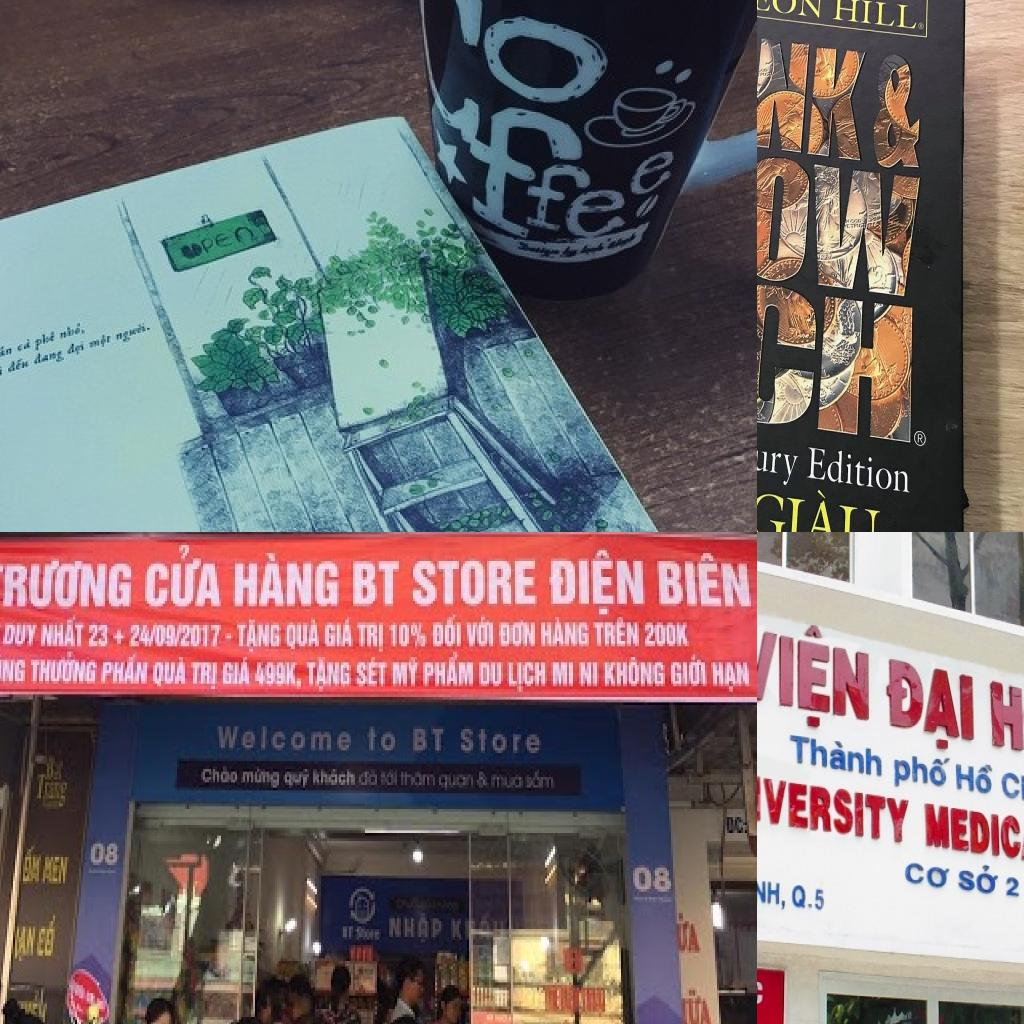text: (411, 0, 619, 182), (470, 92, 693, 246), (757, 258, 916, 444), (757, 134, 923, 300), (757, 13, 871, 167), (757, 607, 875, 736), (757, 765, 911, 845), (880, 643, 978, 756), (409, 553, 543, 614), (0, 558, 137, 616), (225, 545, 343, 612), (545, 540, 647, 617), (922, 796, 1024, 867), (139, 540, 231, 617), (655, 545, 755, 614), (757, 482, 885, 532), (805, 444, 911, 498), (215, 721, 355, 758), (787, 729, 887, 780), (983, 665, 1024, 780), (176, 221, 261, 267), (347, 556, 405, 614), (29, 649, 101, 692), (829, 0, 919, 34), (457, 724, 547, 758), (127, 622, 227, 652), (890, 745, 952, 793), (757, 427, 803, 487), (601, 654, 669, 692), (421, 652, 477, 694), (303, 654, 355, 697), (387, 910, 445, 948), (537, 614, 593, 652), (951, 755, 997, 801), (99, 652, 151, 692), (591, 614, 645, 652), (253, 657, 307, 694), (39, 612, 87, 652), (233, 617, 283, 654), (709, 657, 755, 697), (629, 865, 675, 905), (675, 908, 707, 964), (643, 620, 695, 654), (149, 654, 191, 694), (669, 652, 711, 692), (957, 862, 1001, 900), (505, 660, 549, 697), (83, 836, 123, 876), (33, 908, 61, 964), (904, 858, 952, 890), (285, 614, 323, 654), (497, 617, 539, 652), (309, 764, 359, 793), (429, 612, 465, 652), (790, 881, 828, 918), (355, 654, 391, 692), (323, 614, 357, 654), (409, 724, 449, 758), (114, 318, 156, 350), (389, 620, 431, 652), (363, 721, 399, 758), (757, 872, 790, 912), (463, 614, 497, 652), (221, 654, 255, 692), (189, 657, 221, 697), (239, 764, 283, 793), (19, 841, 45, 889), (41, 852, 71, 892), (999, 764, 1024, 812), (355, 620, 387, 657), (523, 766, 559, 798), (391, 654, 421, 692), (199, 761, 241, 788), (1, 622, 41, 649), (399, 766, 437, 793), (0, 651, 29, 686), (435, 772, 477, 796), (489, 766, 525, 793), (477, 660, 507, 692), (15, 926, 39, 966), (281, 766, 315, 793), (32, 346, 67, 372), (56, 318, 88, 344), (85, 622, 111, 652), (577, 660, 601, 692), (377, 764, 403, 793), (88, 328, 114, 355), (551, 660, 575, 689), (34, 328, 59, 355), (723, 814, 751, 838), (6, 354, 32, 378), (1002, 874, 1023, 900), (355, 924, 385, 942), (64, 338, 86, 360), (359, 766, 379, 790), (449, 916, 465, 945), (16, 336, 34, 357), (0, 342, 14, 367), (341, 924, 357, 945), (913, 430, 925, 447)
